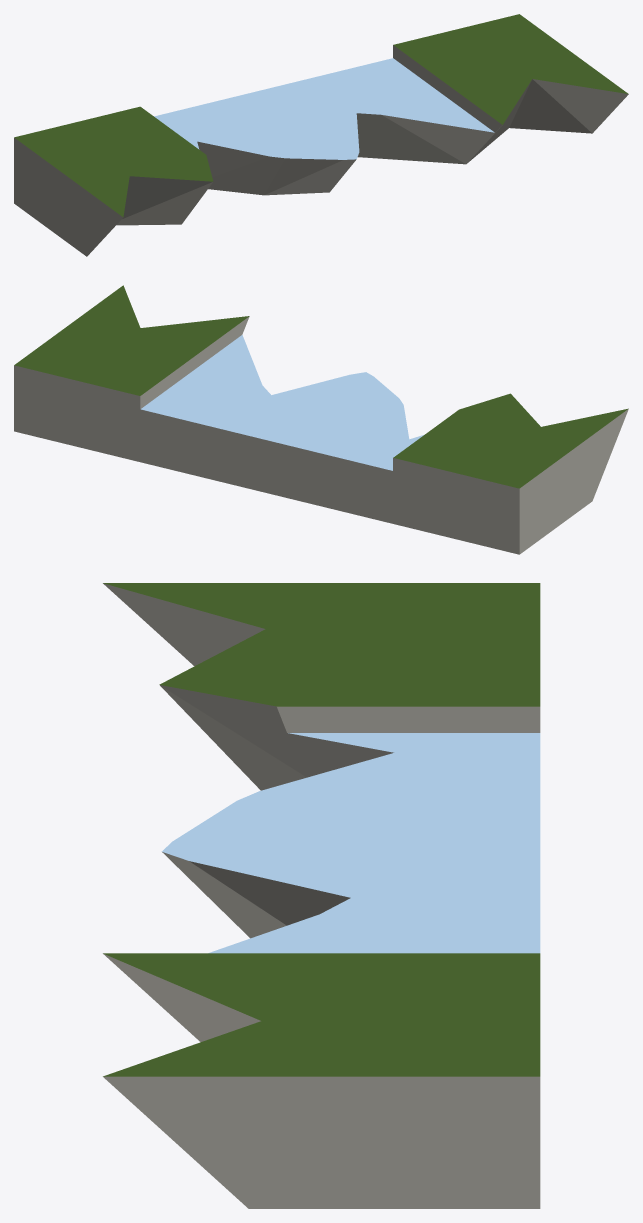
Rendered from Terrain_Tile_Grass_Rock_Ledge_River_02.fbx.
3 renders of one model, top to bottom at view 1: azimuth 30°, elevation 25°; view 2: azimuth 150°, elevation 25°; view 3: azimuth 270°, elevation 25°, orthographic. The views are drawn at different scales.
Visible parts, largest first — view 1: Terrain_Tile_Grass_Rock_Ledge_River_02; view 2: Terrain_Tile_Grass_Rock_Ledge_River_02; view 3: Terrain_Tile_Grass_Rock_Ledge_River_02.
Boxes of the visible parts, <box> form: Terrain_Tile_Grass_Rock_Ledge_River_02: <box>14,14,628,256</box>; Terrain_Tile_Grass_Rock_Ledge_River_02: <box>14,285,628,554</box>; Terrain_Tile_Grass_Rock_Ledge_River_02: <box>103,583,540,1208</box>.
Bounding box in the file's own units: 126 × 15.75 × 47.24.
